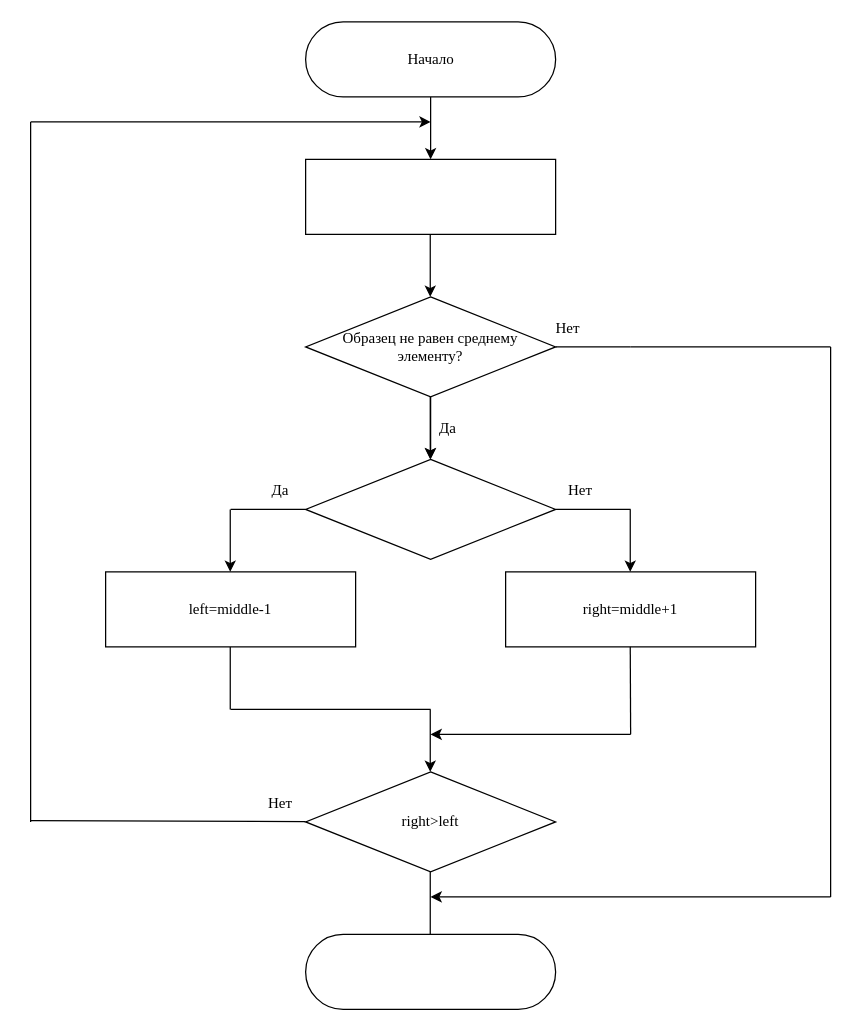
This 863x1031 diagram has some shape labels left out. Here are the shapes that lost their labels. From the top down, the centre of each, then its label:
the point at 430,196: Вычислить номер среднего элемента массива
the point at 430,508: Образец меньше среднего элемента?
the point at 430,971: Конец
